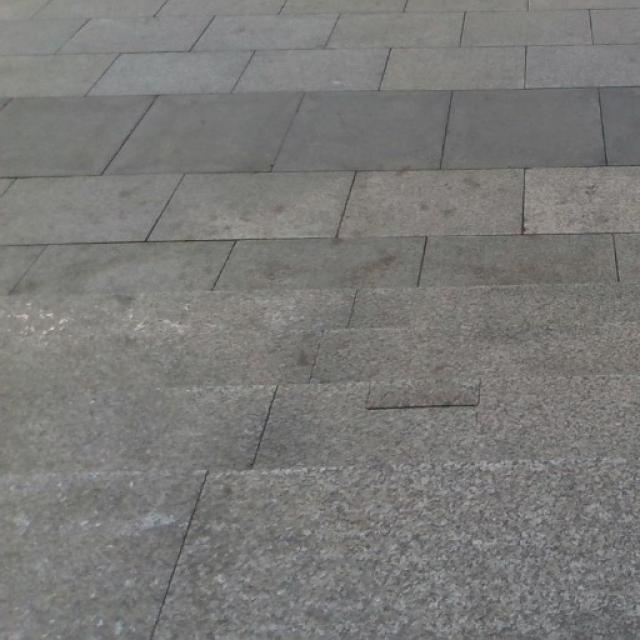stair: (9, 272, 640, 596)
